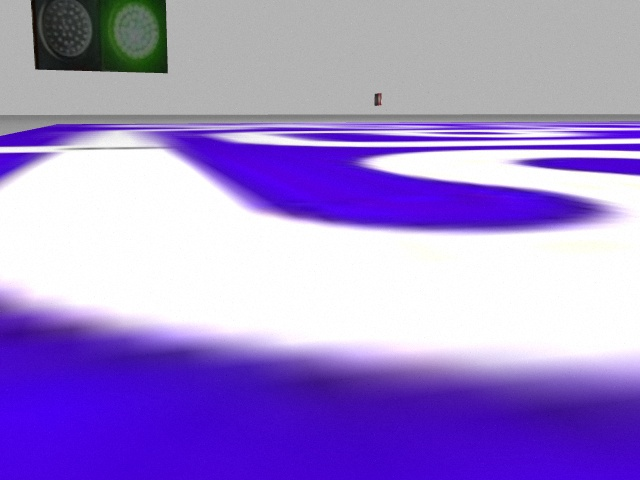green: (100, 1, 169, 73)
